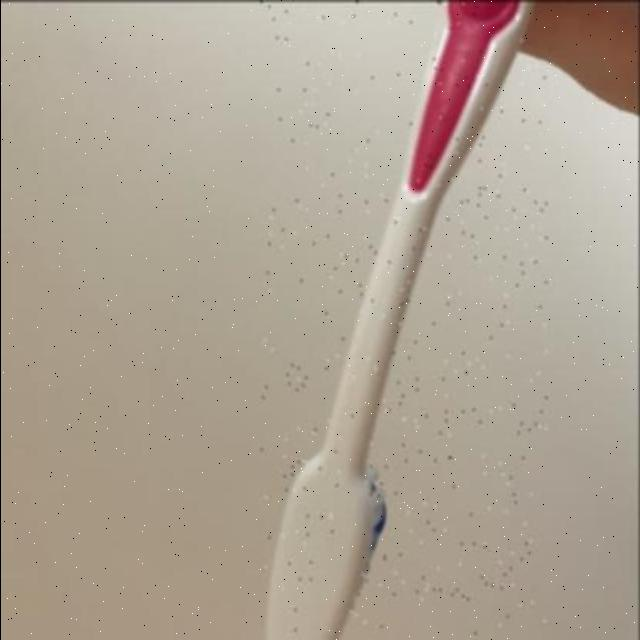toothbrush: (262, 0, 548, 640)
